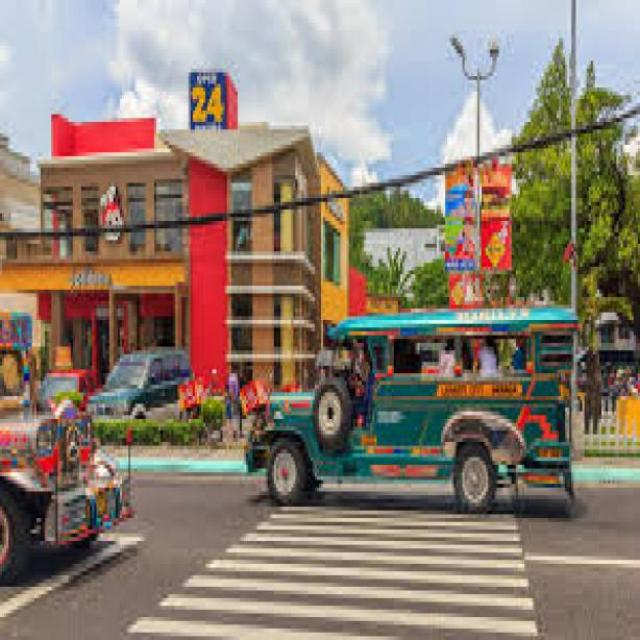pedestrian lane: (126, 502, 539, 640)
